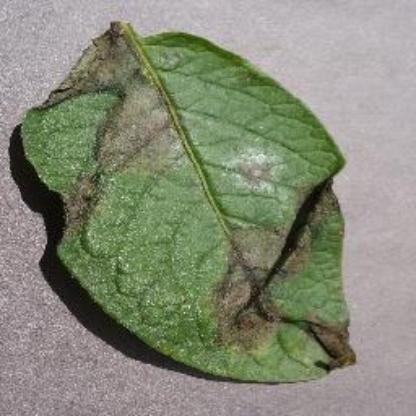Late-Blight: (17, 20, 384, 398)
